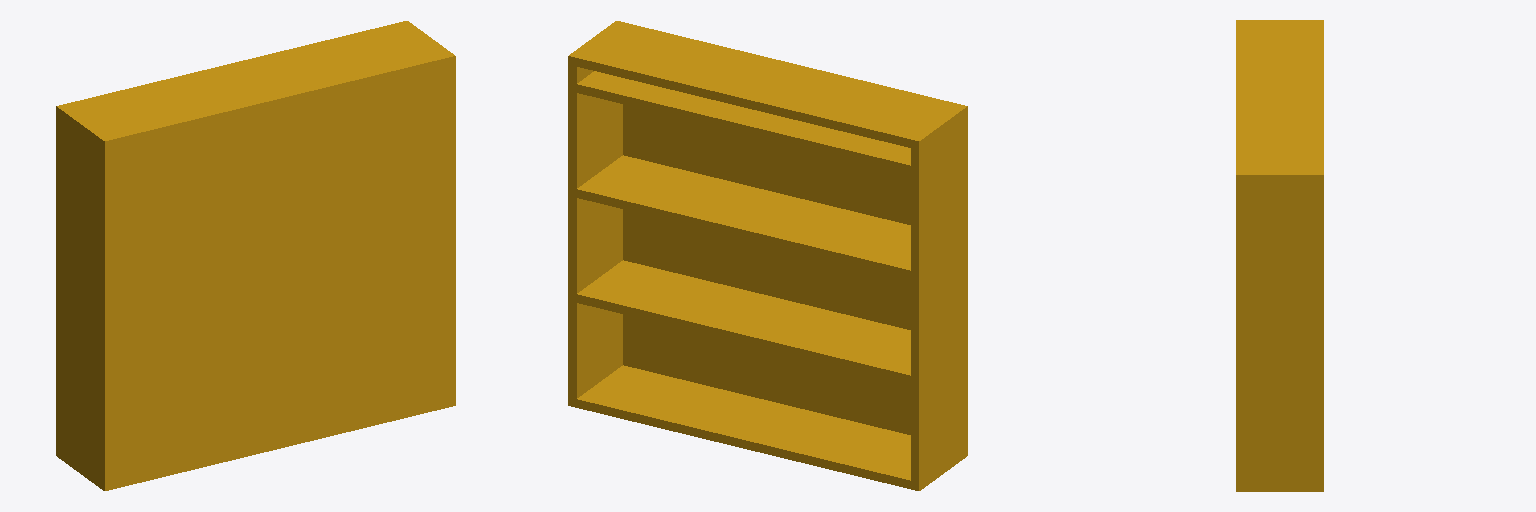
URDF robot description (bookcase):
<robot name="bookcase">

  <material name="wooden">
      <color rgba="0.85 0.65 0.13 1"/>
  </material>

  <link name="base">
    <visual>
      <origin rpy="0 0 0" xyz="0 0 0"/>
      <geometry>
        <box size="2.0 0.5 0.05"/>
      </geometry>
      <material name="wooden"/>
    </visual>
    <collision>
      <origin rpy="0 0 0" xyz="0 0 0"/>
      <geometry>
        <box size="2.0 0.5 0.05"/>
      </geometry>
    </collision>
    <inertial>
      <mass value="0.5"/>
      <inertia ixx="1" ixy="0.0" ixz="0.0" iyy="1" iyz="0.0" izz="1.0"/>
    </inertial>
  </link>

  <joint name="j0" type="fixed">
      <origin rpy="0 0 0" xyz="1 0 -0.025"/>
      <parent link="base"/>
      <child link="rightSide"/>
  </joint>

  <link name="rightSide">
    <visual>
      <origin rpy="0 0 0" xyz="0.025 0 1.0"/>
      <geometry>
        <box size="0.05 0.5 2.0"/>
      </geometry>
      <material name="wooden"/>
    </visual>
    <collision>
      <origin rpy="0 0 0" xyz="0.025 0 1.0"/>
      <geometry>
        <box size="0.05 0.5 2.0"/>
      </geometry>
    </collision>
    <inertial>
      <mass value="1"/>
      <inertia ixx="1" ixy="0.0" ixz="0.0" iyy="1" iyz="0.0" izz="1.0"/>
    </inertial>
  </link>

  <joint name="j1" type="fixed">
    <origin rpy="0 0 0" xyz="-1 0 -0.025"/>
    <parent link="base"/>
    <child link="leftSide"/>
  </joint>

  <link name="leftSide">
    <visual>
      <origin rpy="0 0 0" xyz="-0.025 0 1.0"/>
      <geometry>
        <box size="0.05 0.5 2.0"/>
      </geometry>
      <material name="wooden"/>
    </visual>
    <collision>
      <origin rpy="0 0 0" xyz="-0.025 0 1.0"/>
      <geometry>
        <box size="0.05 0.5 2.0"/>
      </geometry>
    </collision>
    <inertial>
      <mass value="1"/>
      <inertia ixx="1" ixy="0.0" ixz="0.0" iyy="1" iyz="0.0" izz="1.0"/>
    </inertial>
  </link>

  <joint name="j2" type="fixed">
    <origin rpy="0 0 0" xyz="-1 0 0.6"/>
    <parent link="leftSide"/>
    <child link="shelf1"/>
  </joint>

  <link name="shelf1">
    <visual>
      <origin rpy="0 0 0" xyz="2 0 0.025"/>
      <geometry>
        <box size="2.0 0.5 0.05"/>
      </geometry>
      <material name="wooden"/>
    </visual>
    <collision>
      <origin rpy="0 0 0" xyz="2 0 0.025"/>
      <geometry>
        <box size="2.0 0.5 0.05"/>
      </geometry>
    </collision>
    <inertial>
      <mass value="0.5"/>
      <inertia ixx="1.0" ixy="0.0" ixz="0.0" iyy="1.0" iyz="0.0" izz="1.0"/>
    </inertial>
  </link>

  <joint name="j3" type="fixed">
    <origin rpy="0 0 0" xyz="-1 0 1.2"/>
    <parent link="leftSide"/>
    <child link="shelf2"/>
  </joint>

  <link name="shelf2">
    <visual>
      <origin rpy="0 0 0" xyz="2 0 0.025"/>
      <geometry>
        <box size="2.0 0.5 0.05"/>
      </geometry>
      <material name="wooden"/>
    </visual>
    <collision>
      <origin rpy="0 0 0" xyz="2 0 0.025"/>
      <geometry>
        <box size="2.0 0.5 0.05"/>
      </geometry>
    </collision>
    <inertial>
      <mass value="0.5"/>
      <inertia ixx="1.0" ixy="0.0" ixz="0.0" iyy="1.0" iyz="0.0" izz="1.0"/>
    </inertial>
  </link>

  <joint name="j4" type="fixed">
    <origin rpy="0 0 0" xyz="-1 0 1.8"/>
    <parent link="leftSide"/>
    <child link="shelf3"/>
  </joint>

  <link name="shelf3">
    <visual>
      <origin rpy="0 0 0" xyz="2 0 0.025"/>
      <geometry>
        <box size="2.0 0.5 0.05"/>
      </geometry>
      <material name="wooden"/>
    </visual>
    <collision>
      <origin rpy="0 0 0" xyz="2 0 0.025"/>
      <geometry>
        <box size="2.0 0.5 0.05"/>
      </geometry>
    </collision>
    <inertial>
      <mass value="0.5"/>
      <inertia ixx="1.0" ixy="0.0" ixz="0.0" iyy="1.0" iyz="0.0" izz="1.0"/>
    </inertial>
  </link>

  <joint name="j5" type="fixed">
    <origin rpy="0 0 0" xyz="-1 0 2.0"/>
    <parent link="leftSide"/>
    <child link="top"/>
  </joint>

  <link name="top">
    <visual>
      <origin rpy="0 0 0" xyz="2 0 -.025"/>
      <geometry>
        <box size="2.0 0.5 0.05"/>
      </geometry>
      <material name="wooden"/>
    </visual>
    <collision>
      <origin rpy="0 0 0" xyz="2 0 -0.025"/>
      <geometry>
        <box size="2.0 0.5 0.05"/>
      </geometry>
    </collision>
    <inertial>
      <mass value="0.5"/>
      <inertia ixx="1.0" ixy="0.0" ixz="0.0" iyy="1.0" iyz="0.0" izz="1.0"/>
    </inertial>
  </link>

  <joint name="j6" type="fixed">
    <origin rpy="0 0 0" xyz="0 -0.25 -0.025"/>
    <parent link="base"/>
    <child link="back"/>
  </joint>

  <link name="back">
    <visual>
      <origin rpy="0 0 0" xyz="0 .01 1.0"/>
      <geometry>
        <box size="2.1 0.02 2.0"/>
      </geometry>
      <material name="wooden"/>
    </visual>
    <collision>
      <origin rpy="0 0 0" xyz="0 .01 1.0"/>
      <geometry>
        <box size="2.1 0.02 2.0"/>
      </geometry>
    </collision>
    <inertial>
      <mass value="1.5"/>
      <inertia ixx="1.0" ixy="0.0" ixz="0.0" iyy="1.0" iyz="0.0" izz="1.0"/>
    </inertial>
  </link>

</robot>

--- What the picture shows (computed from the rendered views, not written in the file) ---
The picture shows the robot from 3 angles, left to right: view 1: azimuth 30°, elevation 25°; view 2: azimuth 150°, elevation 25°; view 3: azimuth 270°, elevation 25°; orthographic projection.
Model bookcase with 8 links and 7 joints (7 fixed), rooted at base, posed all joints at 0.
Links seen in each view (by area): view 1: back, leftSide, top, rightSide, shelf3, base, shelf1, shelf2; view 2: back, leftSide, top, base, shelf2, shelf1, rightSide, shelf3; view 3: rightSide, top, back.
Link boxes in pixels (<box>): back: <box>104,54,455,489</box>; leftSide: <box>56,104,112,490</box>; top: <box>65,23,446,147</box>; rightSide: <box>399,21,455,406</box>; shelf3: <box>113,87,434,173</box>; base: <box>113,399,446,488</box>; shelf1: <box>113,295,446,382</box>; shelf2: <box>113,191,440,278</box>; back: <box>619,21,967,454</box>; leftSide: <box>911,105,967,490</box>; top: <box>577,23,956,147</box>; base: <box>577,365,910,488</box>; shelf2: <box>577,155,910,278</box>; shelf1: <box>577,260,910,383</box>; rightSide: <box>568,21,622,407</box>; shelf3: <box>577,71,910,173</box>; rightSide: <box>1236,172,1323,491</box>; top: <box>1236,24,1323,171</box>; back: <box>1236,22,1239,490</box>.
Bounding box of the posed robot: 2.1 × 0.5 × 2 m (x, y, z).
Geometry: primitives only (box / cylinder / sphere), no mesh files.